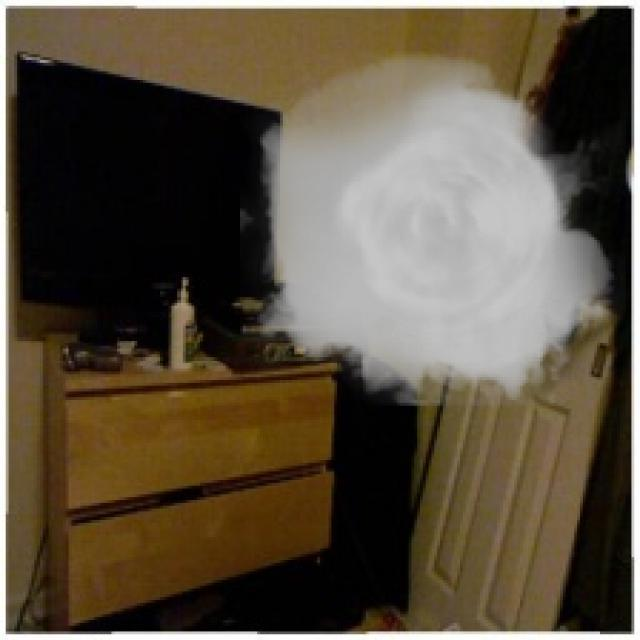Smoke: (240, 51, 626, 406)
